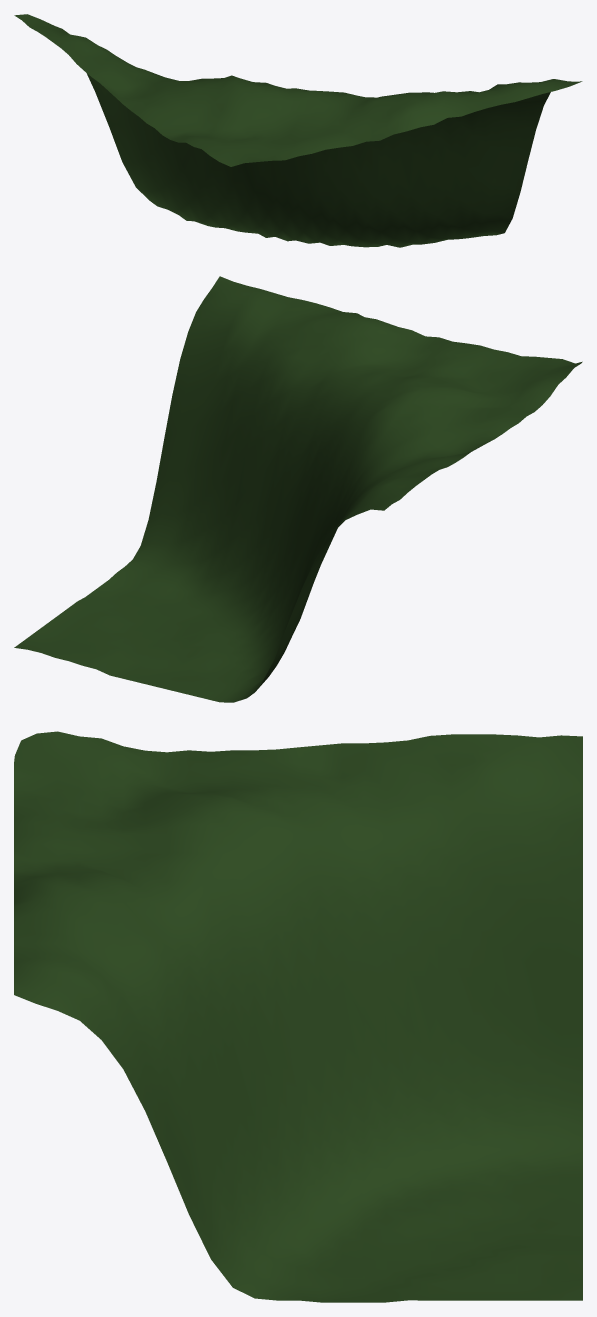
The model's file is TerrainQ1.fbx.
3 renders of one model, top to bottom at view 1: azimuth 30°, elevation 25°; view 2: azimuth 150°, elevation 25°; view 3: azimuth 270°, elevation 25°, orthographic. The views are drawn at different scales.
Visible parts, largest first — view 1: TerrainModel.001; view 2: TerrainModel.001; view 3: TerrainModel.001.
Part boxes in pixels (bbox=[...]): TerrainModel.001: bbox=[14, 14, 582, 247]; TerrainModel.001: bbox=[14, 276, 582, 702]; TerrainModel.001: bbox=[14, 731, 582, 1302].
Size of the model in its own units: 52941 by 32353 by 50980.
